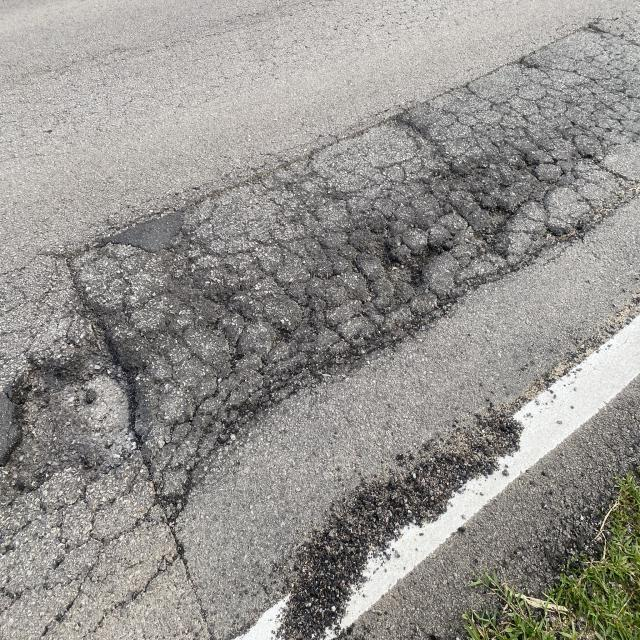pothole: (0, 324, 216, 568), (350, 199, 497, 361)
